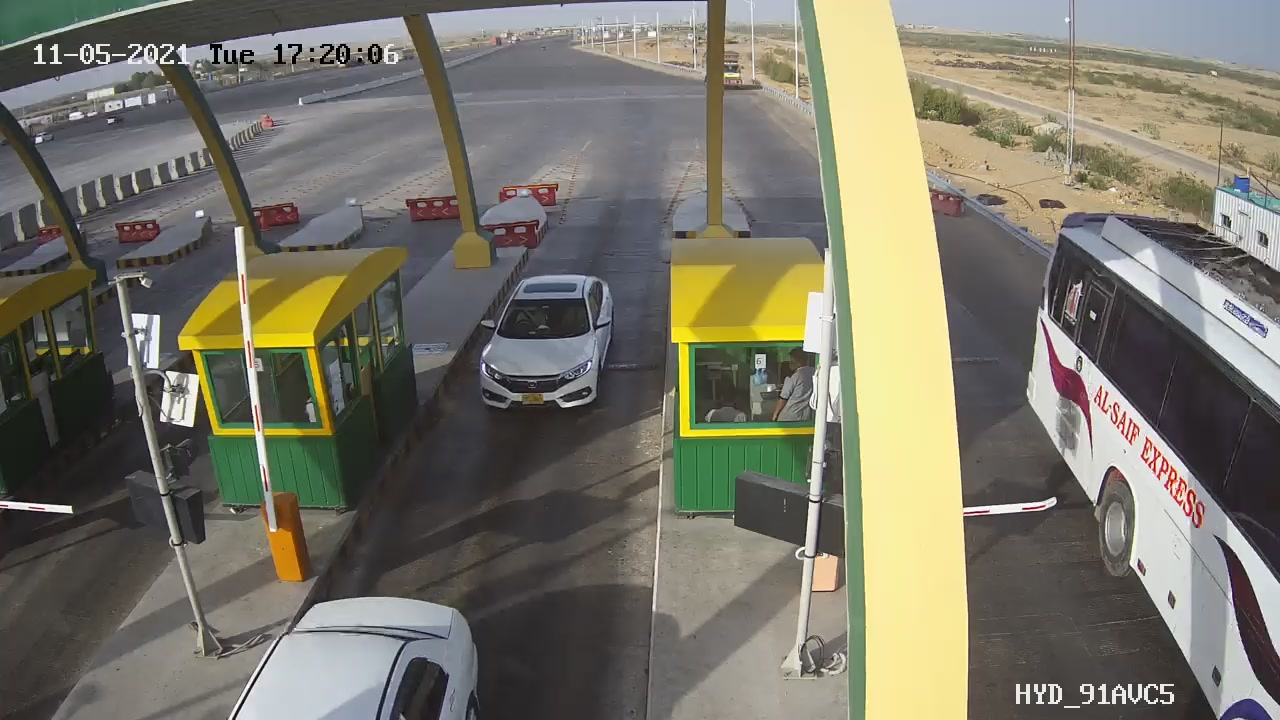F1: (463, 257, 631, 427)
